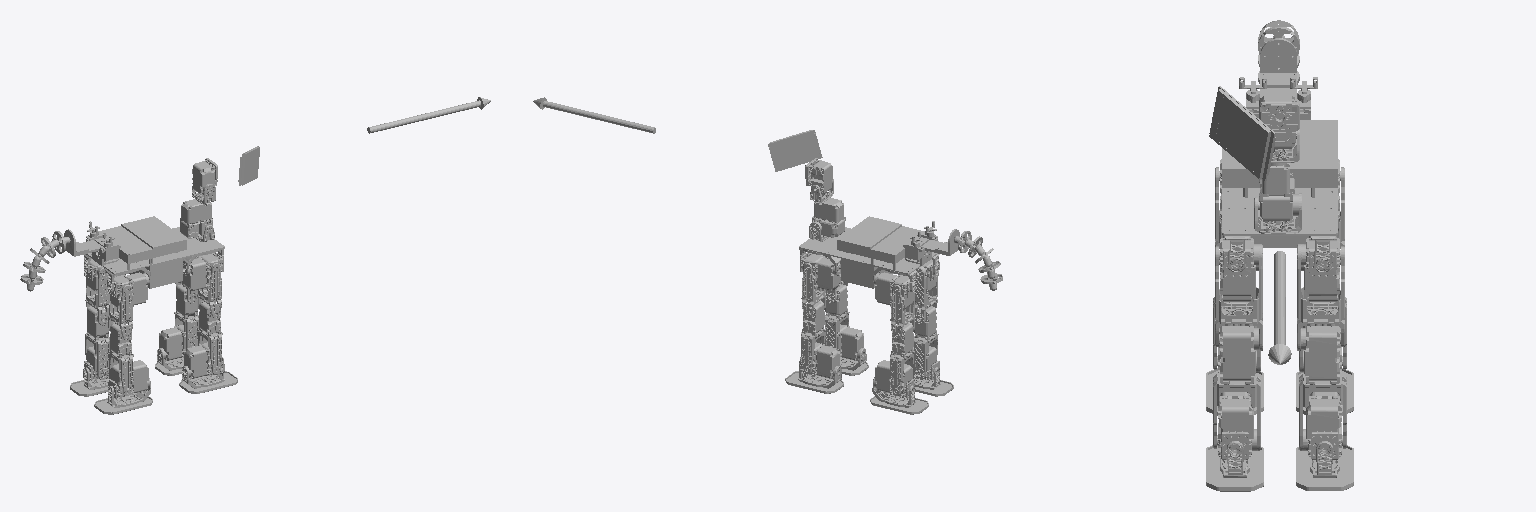
--- Facts derived from the render (not from the file) ---
Views: 3 orthographic renders of the robot side by side, from view 1: azimuth 30°, elevation 25°; view 2: azimuth 150°, elevation 25°; view 3: azimuth 270°, elevation 25°.
Model sweetie_bot_proto2 with 45 links and 44 joints (32 revolute, 3 prismatic, 9 fixed), rooted at base_link, posed every joint at zero.
Visible links, largest first — view 1: base_link, bone33, bone43, bone23, bone51, bone13, bone21, bone45, bone41, bone25, bone24, bone44 (+8 smaller); view 2: base_link, screen_right, bone33, bone13, bone43, bone51, bone23, bone31, bone11, bone35, bone15, bone14 (+8 smaller); view 3: base_link, screen_right, bone23, bone13, bone25, bone15, bone14, bone24, bone51, bone12, bone22, bone53 (+3 smaller).
Boxes of the visible links, <box> form: base_link: <box>20,216,224,292</box>; bone33: <box>85,306,109,379</box>; bone43: <box>109,322,133,395</box>; bone23: <box>198,301,222,374</box>; bone51: <box>180,197,212,238</box>; bone13: <box>174,284,198,348</box>; bone21: <box>183,253,223,290</box>; bone45: <box>94,378,152,414</box>; bone41: <box>108,272,148,309</box>; bone25: <box>179,364,237,393</box>; bone24: <box>184,342,223,378</box>; bone44: <box>108,360,149,398</box>; base_link: <box>799,216,1002,291</box>; screen_right: <box>768,130,822,171</box>; bone33: <box>890,322,914,395</box>; bone13: <box>801,300,825,374</box>; bone43: <box>914,306,938,379</box>; bone51: <box>812,198,845,237</box>; bone23: <box>825,284,849,347</box>; bone31: <box>874,272,915,309</box>; bone11: <box>800,252,839,290</box>; bone35: <box>870,377,928,414</box>; bone15: <box>785,363,843,393</box>; bone14: <box>799,342,839,378</box>; base_link: <box>1222,20,1337,271</box>; screen_right: <box>1209,86,1275,180</box>; bone23: <box>1213,326,1260,450</box>; bone13: <box>1299,326,1346,450</box>; bone25: <box>1206,441,1263,491</box>; bone15: <box>1296,441,1353,490</box>; bone14: <box>1303,392,1342,459</box>; bone24: <box>1217,392,1256,459</box>; bone51: <box>1258,155,1298,220</box>; bone12: <box>1297,244,1344,350</box>; bone22: <box>1215,244,1262,350</box>; bone53: <box>1259,93,1299,148</box>.
Bounding box of the posed robot: 0.8477 × 0.1272 × 0.3896 m (x, y, z).
27 mesh visuals loaded from 29 distinct referenced files (3 binary STL, 24 Collada DAE); not drawn: 1 (reference not matched to a file when rendering), 1 (file found but could not be loaded).

URDF robot description (sweetie_bot_proto2):
<?xml version="1.0"?>
<robot name="sweetie_bot_proto2">
  <link name="base_link">
    <visual>
      <origin xyz="0.0 0.0 0.0" rpy="0.0 0.0 0.0"/>
      <geometry>
        <mesh filename="package://sweetie_bot_proto2_description/meshes/base_link.DAE"/>
      </geometry>
      <material name="">
        <color rgba="0.752941176471 0.752941176471 0.752941176471 1.0"/>
      </material>
    </visual>
    <collision>
      <origin xyz="0.0 0.0 0.0" rpy="0.0 0.0 0.0"/>
      <geometry>
        <mesh filename="package://sweetie_bot_proto2_description/meshes/collision/base_link.STL"/>
      </geometry>
    </collision>
  </link>
  <link name="base_link_inertia">
    <inertial>
      <origin xyz="-0.0138905253241 -0.00180707327366 8.18940362861e-05" rpy="0.0 0.0 0.0"/>
      <mass value="0.971931208405"/>
      <inertia ixx="0.00107358081614" ixy="0.00039355236889" ixz="8.3645206281e-06" iyy="0.00359809561149" iyz="-2.30307474917e-06" izz="0.00335012984396"/>
    </inertial>
  </link>
  <joint name="fictive_base_joint" type="fixed">
    <parent link="base_link"/>
    <child link="base_link_inertia"/>
  </joint>
  <link name="bone11">
    <inertial>
      <origin xyz="-0.0131503498523 -0.000726513653317 -0.0123397056768" rpy="0.0 0.0 0.0"/>
      <mass value="0.105587079651"/>
      <inertia ixx="2.35646435059e-05" ixy="1.00872737015e-06" ixz="-8.73535975042e-07" iyy="4.54760318745e-05" iyz="3.82961621381e-08" izz="3.46439811584e-05"/>
    </inertial>
    <visual>
      <origin xyz="0.0 0.0 0.0" rpy="0.0 0.0 0.0"/>
      <geometry>
        <mesh filename="package://sweetie_bot_proto2_description/meshes/bone11.DAE"/>
      </geometry>
      <material name="">
        <color rgba="0.752941176471 0.752941176471 0.752941176471 1.0"/>
      </material>
    </visual>
    <collision>
      <origin xyz="0.0 0.0 0.0" rpy="0.0 0.0 0.0"/>
      <geometry>
        <mesh filename="package://sweetie_bot_proto2_description/meshes/collision/bone11.STL"/>
      </geometry>
    </collision>
  </link>
  <joint name="joint11" type="revolute">
    <origin xyz="0.080425 0.037 -0.0275" rpy="3.7797374822e-14 -3.4914813431e-15 -4.81230658754e-15"/>
    <axis xyz="-1.0 0.0 0.0"/>
    <parent link="base_link"/>
    <child link="bone11"/>
    <limit effort="0.24" lower="-1.5708" upper="1.5708" velocity="1.5708"/>
  </joint>
  <link name="bone12">
    <inertial>
      <origin xyz="-3.00388784402e-07 -0.00227925246986 -0.0462490701207" rpy="0.0 0.0 0.0"/>
      <mass value="0.0185022042823"/>
      <inertia ixx="1.3783037807e-05" ixy="-3.30013250382e-10" ixz="-6.20565499694e-10" iyy="9.89722431632e-06" iyz="3.69591882948e-08" izz="5.66311332365e-06"/>
    </inertial>
    <visual>
      <origin xyz="0.0 0.0 0.0" rpy="0.0 0.0 0.0"/>
      <geometry>
        <mesh filename="package://sweetie_bot_proto2_description/meshes/bone12.DAE"/>
      </geometry>
      <material name="">
        <color rgba="0.752941176471 0.752941176471 0.752941176471 1.0"/>
      </material>
    </visual>
    <collision>
      <origin xyz="0.0 0.0 0.0" rpy="0.0 0.0 0.0"/>
      <geometry>
        <mesh filename="package://sweetie_bot_proto2_description/meshes/collision/bone12.STL"/>
      </geometry>
    </collision>
  </link>
  <joint name="joint12" type="revolute">
    <origin xyz="0.0 0.0 0.0" rpy="0.0 -3.54776255454e-31 0.0"/>
    <axis xyz="0.0 -1.0 0.0"/>
    <parent link="bone11"/>
    <child link="bone12"/>
    <limit effort="0.24" lower="-1.5708" upper="1.5708" velocity="1.5708"/>
  </joint>
  <link name="bone13">
    <inertial>
      <origin xyz="8.02423274771e-08 -0.00132693444789 -0.0222795353563" rpy="0.0 0.0 0.0"/>
      <mass value="0.0651096345569"/>
      <inertia ixx="4.28023192969e-05" ixy="3.22165726907e-10" ixz="-4.62109403824e-10" iyy="3.8488306844e-05" iyz="3.52704403401e-07" izz="1.03869118902e-05"/>
    </inertial>
    <visual>
      <origin xyz="0.0 0.0 0.0" rpy="0.0 0.0 0.0"/>
      <geometry>
        <mesh filename="package://sweetie_bot_proto2_description/meshes/bone13.DAE"/>
      </geometry>
      <material name="">
        <color rgba="0.752941176471 0.752941176471 0.752941176471 1.0"/>
      </material>
    </visual>
    <collision>
      <origin xyz="0.0 0.0 0.0" rpy="0.0 0.0 0.0"/>
      <geometry>
        <mesh filename="package://sweetie_bot_proto2_description/meshes/collision/bone13.STL"/>
      </geometry>
    </collision>
  </link>
  <joint name="joint13" type="revolute">
    <origin xyz="0.0 0.0 -0.08" rpy="-3.16413562018e-15 3.4914813431e-15 4.81230658754e-15"/>
    <axis xyz="0.0 -1.0 0.0"/>
    <parent link="bone12"/>
    <child link="bone13"/>
    <limit effort="0.24" lower="-1.9" upper="1.9" velocity="1.5708"/>
  </joint>
  <link name="bone14">
    <inertial>
      <origin xyz="-0.0131503499542 -0.000726571124869 0.0123397056981" rpy="0.0 0.0 0.0"/>
      <mass value="0.105587079787"/>
      <inertia ixx="2.35646347426e-05" ixy="1.00889107706e-06" ixz="8.73536154319e-07" iyy="4.54760316078e-05" iyz="-3.84172291161e-08" izz="3.46439720497e-05"/>
    </inertial>
    <visual>
      <origin xyz="0.0 0.0 0.0" rpy="0.0 0.0 0.0"/>
      <geometry>
        <mesh filename="package://sweetie_bot_proto2_description/meshes/bone14.DAE"/>
      </geometry>
      <material name="">
        <color rgba="0.752941176471 0.752941176471 0.752941176471 1.0"/>
      </material>
    </visual>
    <collision>
      <origin xyz="0.0 0.0 0.0" rpy="0.0 0.0 0.0"/>
      <geometry>
        <mesh filename="package://sweetie_bot_proto2_description/meshes/collision/bone14.STL"/>
      </geometry>
    </collision>
  </link>
  <joint name="joint14" type="revolute">
    <origin xyz="0.0 0.0016 -0.09605" rpy="-3.88578058619e-16 6.93889390398e-18 2.17881268583e-15"/>
    <axis xyz="0.0 -1.0 0.0"/>
    <parent link="bone13"/>
    <child link="bone14"/>
    <limit effort="0.24" lower="-1.5708" upper="1.5708" velocity="1.5708"/>
  </joint>
  <link name="bone15">
    <inertial>
      <origin xyz="-0.00654545442537 1.78611357569e-06 -0.0251989397617" rpy="0.0 0.0 0.0"/>
      <mass value="0.0234095309231"/>
      <inertia ixx="4.87157620445e-06" ixy="-4.51832383148e-10" ixz="5.25179469847e-07" iyy="1.68339968626e-05" iyz="-4.43541974088e-11" izz="1.93251783586e-05"/>
    </inertial>
    <visual>
      <origin xyz="0.0 0.0 0.0" rpy="0.0 0.0 0.0"/>
      <geometry>
        <mesh filename="package://sweetie_bot_proto2_description/meshes/bone15.DAE"/>
      </geometry>
      <material name="">
        <color rgba="0.752941176471 0.752941176471 0.752941176471 1.0"/>
      </material>
    </visual>
    <collision>
      <origin xyz="0.0 0.0 0.0" rpy="0.0 0.0 0.0"/>
      <geometry>
        <mesh filename="package://sweetie_bot_proto2_description/meshes/collision/bone15.STL"/>
      </geometry>
    </collision>
  </link>
  <joint name="joint15" type="revolute">
    <origin xyz="0.0 0.0 0.0" rpy="0.0 -1.12103877146e-44 0.0"/>
    <axis xyz="-1.0 0.0 0.0"/>
    <parent link="bone14"/>
    <child link="bone15"/>
    <limit effort="0.24" lower="-1.5708" upper="1.5708" velocity="1.5708"/>
  </joint>
  <link name="bone16"/>
  <joint name="joint16" type="revolute">
    <origin xyz="0.0 0.0 0.0" rpy="0.0 0.0 0.0"/>
    <axis xyz="0.0 0.0 1.0"/>
    <parent link="bone15"/>
    <child link="bone16"/>
    <limit effort="0.24" lower="-1.5708" upper="1.5708" velocity="6.2832"/>
  </joint>
  <link name="hoof1"/>
  <joint name="joint_hoof1" type="fixed">
    <origin xyz="0.0 0.0 -0.03" rpy="0.0 0.0 0.0"/>
    <parent link="bone15"/>
    <child link="hoof1"/>
  </joint>
  <link name="bone21">
    <inertial>
      <origin xyz="-0.0131492758508 0.000726571123886 -0.0123397056768" rpy="0.0 0.0 0.0"/>
      <mass value="0.105587079651"/>
      <inertia ixx="2.35646347031e-05" ixy="-1.00880882812e-06" ixz="-8.74687030149e-07" iyy="4.54825143369e-05" iyz="-3.84172310525e-08" izz="3.46504548181e-05"/>
    </inertial>
    <visual>
      <origin xyz="0.0 0.0 0.0" rpy="0.0 0.0 0.0"/>
      <geometry>
        <mesh filename="package://sweetie_bot_proto2_description/meshes/bone21.DAE"/>
      </geometry>
      <material name="">
        <color rgba="0.752941176471 0.752941176471 0.752941176471 1.0"/>
      </material>
    </visual>
    <collision>
      <origin xyz="0.0 0.0 0.0" rpy="0.0 0.0 0.0"/>
      <geometry>
        <mesh filename="package://sweetie_bot_proto2_description/meshes/collision/bone21.STL"/>
      </geometry>
    </collision>
  </link>
  <joint name="joint21" type="revolute">
    <origin xyz="0.080425 -0.037 -0.0275" rpy="3.54699451234e-15 4.38428390321e-16 -1.54361546163e-14"/>
    <axis xyz="-1.0 0.0 0.0"/>
    <parent link="base_link"/>
    <child link="bone21"/>
    <limit effort="0.24" lower="-1.5708" upper="1.5708" velocity="1.5708"/>
  </joint>
  <link name="bone22">
    <inertial>
      <origin xyz="3.00388784236e-07 0.00227925246986 -0.0462490701207" rpy="0.0 0.0 0.0"/>
      <mass value="0.0185022042823"/>
      <inertia ixx="1.3783037807e-05" ixy="-3.30013250328e-10" ixz="6.20565499657e-10" iyy="9.89722431632e-06" iyz="-3.69591882948e-08" izz="5.66311332365e-06"/>
    </inertial>
    <visual>
      <origin xyz="0.0 0.0 0.0" rpy="0.0 0.0 0.0"/>
      <geometry>
        <mesh filename="package://sweetie_bot_proto2_description/meshes/bone22.DAE"/>
      </geometry>
      <material name="">
        <color rgba="0.752941176471 0.752941176471 0.752941176471 1.0"/>
      </material>
    </visual>
    <collision>
      <origin xyz="0.0 0.0 0.0" rpy="0.0 0.0 0.0"/>
      <geometry>
        <mesh filename="package://sweetie_bot_proto2_description/meshes/collision/bone22.STL"/>
      </geometry>
    </collision>
  </link>
  <joint name="joint22" type="revolute">
    <origin xyz="0.0 0.0 0.0" rpy="0.0 1.6185064457e-32 0.0"/>
    <axis xyz="0.0 -1.0 0.0"/>
    <parent link="bone21"/>
    <child link="bone22"/>
    <limit effort="0.24" lower="-1.5708" upper="1.5708" velocity="1.5708"/>
  </joint>
  <link name="bone23">
    <inertial>
      <origin xyz="-8.0238840558e-08 0.00132693442083 -0.0222795353719" rpy="0.0 0.0 0.0"/>
      <mass value="0.0651096347113"/>
      <inertia ixx="4.28023193276e-05" ixy="3.22168480627e-10" ixz="4.62111154546e-10" iyy="3.84883068536e-05" iyz="-3.52704417056e-07" izz="1.0386911912e-05"/>
    </inertial>
    <visual>
      <origin xyz="0.0 0.0 0.0" rpy="0.0 0.0 0.0"/>
      <geometry>
        <mesh filename="package://sweetie_bot_proto2_description/meshes/bone23.DAE"/>
      </geometry>
      <material name="">
        <color rgba="0.752941176471 0.752941176471 0.752941176471 1.0"/>
      </material>
    </visual>
    <collision>
      <origin xyz="0.0 0.0 0.0" rpy="0.0 0.0 0.0"/>
      <geometry>
        <mesh filename="package://sweetie_bot_proto2_description/meshes/collision/bone23.STL"/>
      </geometry>
    </collision>
  </link>
  <joint name="joint23" type="revolute">
    <origin xyz="0.0 0.0 -0.08" rpy="-7.77156117238e-15 -4.38428390321e-16 1.54361546163e-14"/>
    <axis xyz="0.0 -1.0 0.0"/>
    <parent link="bone22"/>
    <child link="bone23"/>
    <limit effort="0.24" lower="-1.9" upper="1.9" velocity="1.5708"/>
  </joint>
  <link name="bone24">
    <inertial>
      <origin xyz="-0.013149275738 0.000726513639348 0.0123397056981" rpy="0.0 0.0 0.0"/>
      <mass value="0.105587079787"/>
      <inertia ixx="2.35646435624e-05" ixy="-1.00864480641e-06" ixz="8.74686830252e-07" iyy="4.54825147033e-05" iyz="3.82961882936e-08" izz="3.4650463965e-05"/>
    </inertial>
    <visual>
      <origin xyz="0.0 0.0 0.0" rpy="0.0 0.0 0.0"/>
      <geometry>
        <mesh filename="package://sweetie_bot_proto2_description/meshes/bone24.DAE"/>
      </geometry>
      <material name="">
        <color rgba="0.752941176471 0.752941176471 0.752941176471 1.0"/>
      </material>
    </visual>
    <collision>
      <origin xyz="0.0 0.0 0.0" rpy="0.0 0.0 0.0"/>
      <geometry>
        <mesh filename="package://sweetie_bot_proto2_description/meshes/collision/bone24.STL"/>
      </geometry>
    </collision>
  </link>
  <joint name="joint24" type="revolute">
    <origin xyz="0.0 -0.0016 -0.09605" rpy="-6.38378239159e-15 4.4408920985e-16 -7.77156117238e-16"/>
    <axis xyz="0.0 -1.0 0.0"/>
    <parent link="bone23"/>
    <child link="bone24"/>
    <limit effort="0.24" lower="-1.5708" upper="1.5708" velocity="1.5708"/>
  </joint>
  <link name="bone25">
    <inertial>
      <origin xyz="-0.00655201597392 1.78621347767e-06 -0.0251989396311" rpy="0.0 0.0 0.0"/>
      <mass value="0.0234095313367"/>
      <inertia ixx="4.87157625631e-06" ixy="-4.52066602059e-10" ixz="5.29049923335e-07" iyy="1.68265249268e-05" iyz="-4.43638185685e-11" izz="1.93177064246e-05"/>
    </inertial>
    <visual>
      <origin xyz="0.0 0.0 0.0" rpy="0.0 0.0 0.0"/>
      <geometry>
        <mesh filename="package://sweetie_bot_proto2_description/meshes/bone25.DAE"/>
      </geometry>
      <material name="">
        <color rgba="0.752941176471 0.752941176471 0.752941176471 1.0"/>
      </material>
    </visual>
    <collision>
      <origin xyz="0.0 0.0 0.0" rpy="0.0 0.0 0.0"/>
      <geometry>
        <mesh filename="package://sweetie_bot_proto2_description/meshes/collision/bone25.STL"/>
      </geometry>
    </collision>
  </link>
  <joint name="joint25" type="revolute">
    <origin xyz="0.0 0.0 0.0" rpy="0.0 1.23259516441e-32 0.0"/>
    <axis xyz="-1.0 0.0 0.0"/>
    <parent link="bone24"/>
    <child link="bone25"/>
    <limit effort="0.24" lower="-1.5708" upper="1.5708" velocity="1.5708"/>
  </joint>
  <link name="bone26"/>
  <joint name="joint26" type="revolute">
    <origin xyz="0.0 0.0 0.0" rpy="0.0 0.0 0.0"/>
    <axis xyz="0.0 0.0 1.0"/>
    <parent link="bone25"/>
    <child link="bone26"/>
    <limit effort="0.24" lower="-1.5708" upper="1.5708" velocity="6.2832"/>
  </joint>
  <link name="hoof2"/>
  <joint name="joint_hoof2" type="fixed">
    <origin xyz="0.0 0.0 -0.03" rpy="0.0 0.0 0.0"/>
    <parent link="bone25"/>
    <child link="hoof2"/>
  </joint>
  <link name="bone31">
    <inertial>
      <origin xyz="0.0131492758696 -0.000726571137855 -0.0123397056556" rpy="0.0 0.0 0.0"/>
      <mass value="0.105587079515"/>
      <inertia ixx="2.35646346466e-05" ixy="-1.00880884987e-06" ixz="8.74687063234e-07" iyy="4.54825142684e-05" iyz="3.84172048974e-08" izz="3.46504547718e-05"/>
    </inertial>
    <visual>
      <origin xyz="0.0 0.0 0.0" rpy="0.0 0.0 0.0"/>
      <geometry>
        <mesh filename="package://sweetie_bot_proto2_description/meshes/bone31.DAE"/>
      </geometry>
      <material name="">
        <color rgba="0.752941176471 0.752941176471 0.752941176471 1.0"/>
      </material>
    </visual>
    <collision>
      <origin xyz="0.0 0.0 0.0" rpy="0.0 0.0 0.0"/>
      <geometry>
        <mesh filename="package://sweetie_bot_proto2_description/meshes/collision/bone31.STL"/>
      </geometry>
    </collision>
  </link>
  <joint name="joint31" type="revolute">
    <origin xyz="-0.080425 0.037 -0.0275" rpy="-3.54455505745e-15 -9.51716093093e-30 -6.52476541856e-14"/>
    <axis xyz="-1.0 0.0 0.0"/>
    <parent link="base_link"/>
    <child link="bone31"/>
    <limit effort="0.24" lower="-1.5708" upper="1.5708" velocity="1.5708"/>
  </joint>
  <link name="bone32">
    <inertial>
      <origin xyz="-3.00388783764e-07 -0.00227925246986 -0.0462490701207" rpy="0.0 0.0 0.0"/>
      <mass value="0.0185022042823"/>
      <inertia ixx="1.3783037807e-05" ixy="-3.30013250142e-10" ixz="-6.20565499675e-10" iyy="9.89722431632e-06" iyz="3.69591882948e-08" izz="5.66311332365e-06"/>
    </inertial>
    <visual>
      <origin xyz="0.0 0.0 0.0" rpy="0.0 0.0 0.0"/>
      <geometry>
        <mesh filename="package://sweetie_bot_proto2_description/meshes/bone32.DAE"/>
      </geometry>
      <material name="">
        <color rgba="0.752941176471 0.752941176471 0.752941176471 1.0"/>
      </material>
    </visual>
    <collision>
      <origin xyz="0.0 0.0 0.0" rpy="0.0 0.0 0.0"/>
      <geometry>
        <mesh filename="package://sweetie_bot_proto2_description/meshes/collision/bone32.STL"/>
      </geometry>
    </collision>
  </link>
  <joint name="joint32" type="revolute">
    <origin xyz="0.0 0.0 0.0" rpy="0.0 0.0 0.0"/>
    <axis xyz="0.0 -1.0 0.0"/>
    <parent link="bone31"/>
    <child link="bone32"/>
    <limit effort="0.24" lower="-1.5708" upper="1.5708" velocity="1.5708"/>
  </joint>
  <link name="bone33">
    <inertial>
      <origin xyz="8.02423283791e-08 -0.0013269344479 -0.0222795353563" rpy="0.0 0.0 0.0"/>
      <mass value="0.0651096345569"/>
      <inertia ixx="4.28023192969e-05" ixy="3.22165726877e-10" ixz="-4.62109403858e-10" iyy="3.8488306844e-05" iyz="3.52704403401e-07" izz="1.03869118902e-05"/>
    </inertial>
    <visual>
      <origin xyz="0.0 0.0 0.0" rpy="0.0 0.0 0.0"/>
      <geometry>
        <mesh filename="package://sweetie_bot_proto2_description/meshes/bone33.DAE"/>
      </geometry>
      <material name="">
        <color rgba="0.752941176471 0.752941176471 0.752941176471 1.0"/>
      </material>
    </visual>
    <collision>
      <origin xyz="0.0 0.0 0.0" rpy="0.0 0.0 0.0"/>
      <geometry>
        <mesh filename="package://sweetie_bot_proto2_description/meshes/collision/bone33.STL"/>
      </geometry>
    </collision>
  </link>
  <joint name="joint33" type="revolute">
    <origin xyz="0.0 0.0 -0.08" rpy="-6.80011602583e-16 -2.217567417e-28 6.52476541856e-14"/>
    <axis xyz="0.0 -1.0 0.0"/>
    <parent link="bone32"/>
    <child link="bone33"/>
    <limit effort="0.24" lower="-1.9" upper="1.9" velocity="1.5708"/>
  </joint>
  <link name="bone34">
    <inertial>
      <origin xyz="0.013149275738 -0.000726513639348 0.0123397056981" rpy="0.0 0.0 0.0"/>
      <mass value="0.105587079787"/>
      <inertia ixx="2.35646435624e-05" ixy="-1.00864480641e-06" ixz="-8.74686830253e-07" iyy="4.54825147033e-05" iyz="-3.82961882936e-08" izz="3.4650463965e-05"/>
    </inertial>
    <visual>
      <origin xyz="0.0 0.0 0.0" rpy="0.0 0.0 0.0"/>
      <geometry>
        <mesh filename="package://sweetie_bot_proto2_description/meshes/bone34.DAE"/>
      </geometry>
      <material name="">
        <color rgba="0.752941176471 0.752941176471 0.752941176471 1.0"/>
      </material>
    </visual>
    <collision>
      <origin xyz="0.0 0.0 0.0" rpy="0.0 0.0 0.0"/>
      <geometry>
        <mesh filename="package://sweetie_bot_proto2_description/meshes/collision/bone34.STL"/>
      </geometry>
    </collision>
  </link>
  <joint name="joint34" type="revolute">
    <origin xyz="0.0 0.0016 -0.09605" rpy="7.88258347484e-15 -9.15933995316e-15 2.39154391688e-17"/>
    <axis xyz="0.0 -1.0 0.0"/>
    <parent link="bone33"/>
    <child link="bone34"/>
    <limit effort="0.24" lower="-1.5708" upper="1.5708" velocity="1.5708"/>
  </joint>
  <link name="bone35">
    <inertial>
      <origin xyz="0.00655201574471 -1.78612912996e-06 -0.0251989396957" rpy="0.0 0.0 0.0"/>
      <mass value="0.0234095310833"/>
      <inertia ixx="4.87157622862e-06" ixy="-4.52100673042e-10" ixz="-5.29049893178e-07" iyy="1.68265247952e-05" iyz="4.43548246901e-11" izz="1.93177062886e-05"/>
    </inertial>
    <visual>
      <origin xyz="0.0 0.0 0.0" rpy="0.0 0.0 0.0"/>
      <geometry>
        <mesh filename="package://sweetie_bot_proto2_description/meshes/bone35.DAE"/>
      </geometry>
      <material name="">
        <color rgba="0.752941176471 0.752941176471 0.752941176471 1.0"/>
      </material>
    </visual>
    <collision>
      <origin xyz="0.0 0.0 0.0" rpy="0.0 0.0 0.0"/>
      <geometry>
        <mesh filename="package://sweetie_bot_proto2_description/meshes/collision/bone35.STL"/>
      </geometry>
    </collision>
  </link>
  <joint name="joint35" type="revolute">
    <origin xyz="0.0 0.0 0.0" rpy="0.0 8.89474285511e-32 0.0"/>
    <axis xyz="-1.0 0.0 0.0"/>
    <parent link="bone34"/>
    <child link="bone35"/>
    <limit effort="0.24" lower="-1.5708" upper="1.5708" velocity="1.5708"/>
  </joint>
  <link name="bone36"/>
  <joint name="joint36" type="revolute">
    <origin xyz="0.0 0.0 0.0" rpy="0.0 0.0 0.0"/>
    <axis xyz="0.0 0.0 1.0"/>
    <parent link="bone35"/>
    <child link="bone36"/>
    <limit effort="0.24" lower="-1.5708" upper="1.5708" velocity="6.2832"/>
  </joint>
  <link name="hoof3"/>
  <joint name="joint_hoof3" type="fixed">
    <origin xyz="0.0 0.0 -0.03" rpy="0.0 0.0 0.0"/>
    <parent link="bone35"/>
    <child link="hoof3"/>
  </joint>
  <link name="bone41">
    <inertial>
      <origin xyz="0.0131503498359 0.00072651364028 -0.012339705691" rpy="0.0 0.0 0.0"/>
      <mass value="0.105587079742"/>
      <inertia ixx="2.3564643549e-05" ixy="1.00872735284e-06" ixz="8.73535947214e-07" iyy="4.54760319183e-05" iyz="-3.82961865959e-08" izz="3.4643981193e-05"/>
    </inertial>
    <visual>
      <origin xyz="0.0 0.0 0.0" rpy="0.0 0.0 0.0"/>
      <geometry>
        <mesh filename="package://sweetie_bot_proto2_description/meshes/bone41.DAE"/>
      </geometry>
      <material name="">
        <color rgba="0.752941176471 0.752941176471 0.752941176471 1.0"/>
      </material>
    </visual>
    <collision>
      <origin xyz="0.0 0.0 0.0" rpy="0.0 0.0 0.0"/>
      <geometry>
        <mesh filename="package://sweetie_bot_proto2_description/meshes/collision/bone41.STL"/>
      </geometry>
    </collision>
  </link>
  <joint name="joint41" type="revolute">
    <origin xyz="-0.080425 -0.037 -0.0275" rpy="-3.64169957211e-15 -5.31264912662e-17 -3.51471262493e-14"/>
    <axis xyz="-1.0 0.0 0.0"/>
    <parent link="base_link"/>
    <child link="bone41"/>
    <limit effort="0.24" lower="-1.5708" upper="1.5708" velocity="1.5708"/>
  </joint>
  <link name="bone42">
    <inertial>
      <origin xyz="3.00388784416e-07 0.00227925246986 -0.0462490701207" rpy="0.0 0.0 0.0"/>
      <mass value="0.0185022042823"/>
      <inertia ixx="1.3783037807e-05" ixy="-3.30013250401e-10" ixz="6.20565499655e-10" iyy="9.89722431632e-06" iyz="-3.69591882947e-08" izz="5.66311332365e-06"/>
    </inertial>
    <visual>
      <origin xyz="0.0 0.0 0.0" rpy="0.0 0.0 0.0"/>
      <geometry>
        <mesh filename="package://sweetie_bot_proto2_description/meshes/bone42.DAE"/>
      </geometry>
      <material name="">
        <color rgba="0.752941176471 0.752941176471 0.752941176471 1.0"/>
      </material>
    </visual>
    <collision>
      <origin xyz="0.0 0.0 0.0" rpy="0.0 0.0 0.0"/>
      <geometry>
        <mesh filename="package://sweetie_bot_proto2_description/meshes/collision/bone42.STL"/>
      </geometry>
    </collision>
  </link>
  <joint name="joint42" type="revolute">
    <origin xyz="0.0 0.0 0.0" rpy="0.0 1.40160664338e-33 0.0"/>
    <axis xyz="0.0 -1.0 0.0"/>
    <parent link="bone41"/>
    <child link="bone42"/>
    <limit effort="0.24" lower="-1.5708" upper="1.5708" velocity="1.5708"/>
  </joint>
  <link name="bone43">
    <inertial>
      <origin xyz="-8.02392172566e-08 0.00132693442399 -0.02227953537" rpy="0.0 0.0 0.0"/>
      <mass value="0.0651096346928"/>
      <inertia ixx="4.2802319324e-05" ixy="3.22168200204e-10" ixz="4.62110957161e-10" iyy="3.84883068525e-05" iyz="-3.52704415432e-07" izz="1.03869119095e-05"/>
    </inertial>
    <visual>
      <origin xyz="0.0 0.0 0.0" rpy="0.0 0.0 0.0"/>
      <geometry>
        <mesh filename="package://sweetie_bot_proto2_description/meshes/bone43.DAE"/>
      </geometry>
      <material name="">
        <color rgba="0.752941176471 0.752941176471 0.752941176471 1.0"/>
      </material>
    </visual>
    <collision>
      <origin xyz="0.0 0.0 0.0" rpy="0.0 0.0 0.0"/>
      <geometry>
        <mesh filename="package://sweetie_bot_proto2_description/meshes/collision/bone43.STL"/>
      </geometry>
    </collision>
  </link>
  <joint name="joint43" type="revolute">
    <origin xyz="0.0 0.0 -0.08" rpy="7.74380559676e-15 5.31264912661e-17 3.51471262493e-14"/>
    <axis xyz="0.0 -1.0 0.0"/>
    <parent link="bone42"/>
    <child link="bone43"/>
    <limit effort="0.24" lower="-1.9" upper="1.9" velocity="1.5708"/>
  </joint>
  <link name="bone44">
    <inertial>
      <origin xyz="0.0131503499548 0.000726571124975 0.012339705701" rpy="0.0 0.0 0.0"/>
      <mass value="0.105587079805"/>
      <inertia ixx="2.3564634748e-05" ixy="1.00889107702e-06" ixz="-8.7353615516e-07" iyy="4.54760316137e-05" iyz="3.84172288987e-08" izz="3.46439720501e-05"/>
    </inertial>
    <visual>
      <origin xyz="0.0 0.0 0.0" rpy="0.0 0.0 0.0"/>
      <geometry>
        <mesh filename="package://sweetie_bot_proto2_description/meshes/bone44.DAE"/>
      </geometry>
      <material name="">
        <color rgba="0.752941176471 0.752941176471 0.752941176471 1.0"/>
      </material>
    </visual>
    <collision>
      <origin xyz="0.0 0.0 0.0" rpy="0.0 0.0 0.0"/>
      <geometry>
        <mesh filename="package://sweetie_bot_proto2_description/meshes/collision/bone44.STL"/>
      </geometry>
    </collision>
  </link>
  <joint name="joint44" type="revolute">
    <origin xyz="0.0 -0.0016 -0.09605" rpy="-1.42386102908e-14 -8.88910258347e-17 -2.32357620616e-14"/>
    <axis xyz="0.0 -1.0 0.0"/>
    <parent link="bone43"/>
    <child link="bone44"/>
    <limit effort="0.24" lower="-1.5708" upper="1.5708" velocity="1.5708"/>
  </joint>
  <link name="bone45">
    <inertial>
      <origin xyz="0.00655201557828 -1.78626172384e-06 -0.0251989397497" rpy="0.0 0.0 0.0"/>
      <mass value="0.0234095308805"/>
      <inertia ixx="4.87157620514e-06" ixy="-4.52030532477e-10" ixz="-5.29049870292e-07" iyy="1.68265247099e-05" iyz="4.43734897267e-11" izz="1.93177061977e-05"/>
    </inertial>
    <visual>
      <origin xyz="0.0 0.0 0.0" rpy="0.0 0.0 0.0"/>
      <geometry>
        <mesh filename="package://sweetie_bot_proto2_description/meshes/bone45.DAE"/>
      </geometry>
      <material name="">
        <color rgba="0.752941176471 0.752941176471 0.752941176471 1.0"/>
      </material>
    </visual>
    <collision>
      <origin xyz="0.0 0.0 0.0" rpy="0.0 0.0 0.0"/>
      <geometry>
        <mesh filename="package://sweetie_bot_proto2_description/meshes/collision/bone45.STL"/>
      </geometry>
    </collision>
  </link>
  <joint name="joint45" type="revolute">
    <origin xyz="0.0 0.0 0.0" rpy="0.0 -1.31403502749e-34 0.0"/>
    <axis xyz="-1.0 0.0 0.0"/>
    <parent link="bone44"/>
    <child link="bone45"/>
    <limit effort="0.24" lower="-1.5708" upper="1.5708" velocity="1.5708"/>
  </joint>
  <link name="bone46"/>
  <joint name="joint46" type="revolute">
    <origin xyz="0.0 0.0 0.0" rpy="0.0 0.0 0.0"/>
    <axis xyz="0.0 0.0 1.0"/>
    <parent link="bone45"/>
    <child link="bone46"/>
    <limit effort="0.24" lower="-1.5708" upper="1.5708" velocity="6.2832"/>
  </joint>
  <link name="hoof4"/>
  <joint name="joint_hoof4" type="fixed">
    <origin xyz="0.0 0.0 -0.03" rpy="0.0 0.0 0.0"/>
    <parent link="bone45"/>
    <child link="hoof4"/>
  </joint>
  <link name="bone51">
    <inertial>
      <origin xyz="-0.0126632708335 -0.00240212881372 0.0139613179896" rpy="0.0 0.0 0.0"/>
      <mass value="0.102575796082"/>
      <inertia ixx="3.20486890845e-05" ixy="-6.31785425217e-08" ixz="-6.33404743184e-08" iyy="4.257965923e-05" iyz="1.07102148364e-06" izz="2.28360140185e-05"/>
    </inertial>
    <visual>
      <origin xyz="0.0 0.0 0.0" rpy="0.0 0.0 0.0"/>
      <geometry>
        <mesh filename="package://sweetie_bot_proto2_description/meshes/bone51.DAE"/>
      </geometry>
      <material name="">
        <color rgba="0.752941176471 0.752941176471 0.752941176471 1.0"/>
      </material>
    </visual>
    <collision>
      <origin xyz="0.0 0.0 0.0" rpy="0.0 0.0 0.0"/>
      <geometry>
        <mesh filename="package://sweetie_bot_proto2_description/meshes/collision/bone51.STL"/>
      </geometry>
    </collision>
  </link>
  <joint name="joint51" type="revolute">
    <origin xyz="0.088 0.0 0.0235" rpy="-4.57151135523e-15 0.0 0.0"/>
    <axis xyz="0.0 -1.0 0.0"/>
    <parent link="base_link"/>
    <child link="bone51"/>
    <limit effort="0.24" lower="-1.5708" upper="0.26" velocity="1.5708"/>
  </joint>
  <link name="bone52">
    <inertial>
      <origin xyz="6.28356812971e-08 -0.000533673413828 -0.0124089525843" rpy="0.0 0.0 0.0"/>
      <mass value="0.00540581700891"/>
      <inertia ixx="1.72999480803e-06" ixy="4.85872622402e-12" ixz="-7.55234636482e-12" iyy="6.96780720156e-07" iyz="8.31596189482e-08" izz="1.51783289906e-06"/>
    </inertial>
    <visual>
      <origin xyz="0.0 0.0 0.0" rpy="0.0 0.0 0.0"/>
      <geometry>
        <mesh filename="package://sweetie_bot_proto2_description/meshes/bone52.DAE"/>
      </geometry>
      <material name="">
        <color rgba="0.752941176471 0.752941176471 0.752941176471 1.0"/>
      </material>
    </visual>
    <collision>
      <origin xyz="0.0 0.0 0.0" rpy="0.0 0.0 0.0"/>
      <geometry>
        <mesh filename="package://sweetie_bot_proto2_description/meshes/collision/bone52.STL"/>
      </geometry>
    </collision>
  </link>
  <joint name="joint52" type="revolute">
    <origin xyz="0.0 -0.00314999999999 0.06705" rpy="-3.30198557404e-15 -6.86083134749e-15 3.72722466096e-14"/>
    <axis xyz="0.0 0.0 1.0"/>
    <parent link="bone51"/>
    <child link="bone52"/>
    <limit effort="0.24" lower="-1.5708" upper="1.5708" velocity="1.5708"/>
  </joint>
  <link name="bone53">
    <inertial>
      <origin xyz="0.00130801561074 0.000349582362335 0.0131913887068" rpy="0.0 0.0 0.0"/>
      <mass value="0.0556640423453"/>
      <inertia ixx="1.3269775023e-05" ixy="-2.08006622387e-07" ixz="-4.16949624092e-07" iyy="1.23844512719e-05" iyz="-1.46540737427e-07" izz="7.58579651683e-06"/>
    </inertial>
    <visual>
      <origin xyz="0.0 0.0 0.0" rpy="0.0 0.0 0.0"/>
      <geometry>
        <mesh filename="package://sweetie_bot_proto2_description/meshes/bone53.DAE"/>
      </geometry>
      <material name="">
        <color rgba="0.752941176471 0.752941176471 0.752941176471 1.0"/>
      </material>
    </visual>
    <collision>
      <origin xyz="0.0 0.0 0.0" rpy="0.0 0.0 0.0"/>
      <geometry>
        <mesh filename="package://sweetie_bot_proto2_description/meshes/collision/bone53.STL"/>
      </geometry>
    </collision>
  </link>
  <joint name="joint53" type="revolute">
    <origin xyz="0.0 0.0 0.0" rpy="-5.14406073106e-16 6.86083134749e-15 -3.72722466096e-14"/>
    <axis xyz="0.0 -1.0 0.0"/>
    <parent link="bone52"/>
    <child link="bone53"/>
    <limit effort="0.24" lower="-0.55" upper="1.0" velocity="1.5708"/>
  </joint>
  <link name="bone54">
    <inertial>
      <origin xyz="0.0428001431483 8.85586725973e-06 0.0237799254315" rpy="0.0 0.0 0.0"/>
      <mass value="0.230098004362"/>
      <inertia ixx="0.00053853140335" ixy="-1.69462600354e-07" ixz="-5.92153223065e-07" iyy="0.000608352544635" iyz="4.55806107537e-07" izz="0.000553896203156"/>
    </inertial>
    <visual>
      <origin xyz="0.0 0.0 0.0" rpy="0.0 0.0 0.0"/>
      <geometry>
        <mesh filename="package://sweetie_bot_proto2_description/meshes/bone54.DAE"/>
      </geometry>
      <material name="">
        <color rgba="0.752941176471 0.752941176471 0.752941176471 1.0"/>
      </material>
    </visual>
    <collision>
      <origin xyz="0.0 0.0 0.0" rpy="0.0 0.0 0.0"/>
      <geometry>
        <mesh filename="package://sweetie_bot_proto2_description/meshes/collision/bone54.STL"/>
      </geometry>
    </collision>
  </link>
  <joint name="joint54" type="revolute">
    <origin xyz="0.0 0.00314999999999 0.0246" rpy="2.77555756156e-14 0.0 0.0"/>
    <axis xyz="1.0 0.0 0.0"/>
    <parent link="bone53"/>
    <child link="bone54"/>
    <limit effort="0.24" lower="-0.4" upper="0.4" velocity="1.5708"/>
  </joint>
  <link name="bone55"/>
  <joint name="joint55" type="revolute">
    <origin xyz="0.12 0.0 -0.02" rpy="0.0 0.0 0.0"/>
    <axis xyz="0.0 0.0 1.0"/>
    <parent link="bone54"/>
    <child link="bone55"/>
    <limit effort="0.24" lower="-1.5708" upper="1.5708" velocity="6.2832"/>
  </joint>
  <link name="bone56"/>
  <joint name="joint56" type="revolute">
    <origin xyz="0.0 0.0 0.0" rpy="0.0 0.0 0.0"/>
    <axis xyz="0.0 1.0 0.0"/>
    <parent link="bone55"/>
    <child link="bone56"/>
    <limit effort="0.24" lower="-1.5708" upper="1.5708" velocity="6.2832"/>
  </joint>
  <link name="screen_left">
    <inertial>
      <origin xyz="0.00299207741489 -1.62465112705e-06 -0.00282951129811" rpy="0.0 0.0 0.0"/>
      <mass value="0.034287324936"/>
      <inertia ixx="7.32360040369e-06" ixy="1.69406589451e-21" ixz="-3.86578989045e-09" iyy="1.56402777551e-05" iyz="-2.54109884176e-21" izz="2.2802630047e-05"/>
    </inertial>
    <visual>
      <origin xyz="0.0 0.0 0.0" rpy="0.0 0.0 0.0"/>
      <geometry>
        <mesh filename="package://sweetie_bot_proto2_description/meshes/screen_left.STL"/>
      </geometry>
      <material name="">
        <color rgba="0.752941176471 0.752941176471 0.752941176471 1.0"/>
      </material>
    </visual>
    <collision>
      <origin xyz="0.0 0.0 0.0" rpy="0.0 0.0 0.0"/>
      <geometry>
        <mesh filename="package://sweetie_bot_proto2_description/meshes/screen_left.STL"/>
      </geometry>
    </collision>
  </link>
  <joint name="screen_left" type="fixed">
    <origin xyz="0.0700895479365 0.0337909018151 0.00614838727403" rpy="1.5707963268 -0.244346095279 2.44346095279"/>
    <axis xyz="0.0 0.0 0.0"/>
    <parent link="bone54"/>
    <child link="screen_left"/>
  </joint>
  <link name="screen_right">
    <inertial>
      <origin xyz="-0.00299207741489 1.62465112707e-06 -0.00282951129811" rpy="0.0 0.0 0.0"/>
      <mass value="0.034287324936"/>
      <inertia ixx="7.32360040369e-06" ixy="6.35274710441e-22" ixz="3.86578989046e-09" iyy="1.56402777551e-05" iyz="8.47032947254e-22" izz="2.2802630047e-05"/>
    </inertial>
    <visual>
      <origin xyz="0.0 0.0 0.0" rpy="0.0 0.0 0.0"/>
      <geometry>
        <mesh filename="package://sweetie_bot_proto2_description/meshes/screen_right.STL"/>
      </geometry>
      <material name="">
        <color rgba="0.752941176471 0.752941176471 0.752941176471 1.0"/>
      </material>
    </visual>
    <collision>
      <origin xyz="0.0 0.0 0.0" rpy="0.0 0.0 0.0"/>
      <geometry>
        <mesh filename="package://sweetie_bot_proto2_description/meshes/screen_right.STL"/>
      </geometry>
    </collision>
  </link>
  <joint name="screen_right" type="fixed">
    <origin xyz="0.0700889457663 -0.0337914070959 0.00614523448994" rpy="1.5707963268 0.244346095279 0.698131700799"/>
    <axis xyz="0.0 0.0 0.0"/>
    <parent link="bone54"/>
    <child link="screen_right"/>
  </joint>
  <link name="eye_left"/>
  <joint name="eye_left" type="fixed">
    <origin xyz="0.0700895479365 0.0337909018151 0.00614838727403" rpy="-3.44033294541e-16 3.15829803493e-14 2.50910403565e-14"/>
    <axis xyz="0.0 0.0 0.0"/>
    <parent link="bone54"/>
    <child link="eye_left"/>
  </joint>
  <link name="eye_right"/>
  <joint name="eye_right" type="fixed">
    <origin xyz="0.0700889457663 -0.0337914070959 0.00614523448994" rpy="-3.69982123334e-16 3.16973967665e-14 2.50355292053e-14"/>
    <axis xyz="0.0 0.0 0.0"/>
    <parent link="bone54"/>
    <child link="eye_right"/>
  </joint>
  <link name="link_eyes_x"/>
  <joint name="joint_eyes_focus_x" type="prismatic">
    <origin xyz="0.0 0.0 0.0" rpy="0.0 0.0 0.0"/>
    <axis xyz="1.0 0.0 0.0"/>
    <parent link="bone54"/>
    <child link="link_eyes_x"/>
    <limit effort="0.24" lower="-0.5" upper="0.5" velocity="1.5708"/>
  </joint>
  <link name="link_eyes_y"/>
  <joint name="joint_eyes_focus_y" type="prismatic">
    <origin xyz="0.0 0.0 0.0" rpy="0.0 0.0 0.0"/>
    <axis xyz="0.0 1.0 0.0"/>
    <parent link="link_eyes_x"/>
    <child link="link_eyes_y"/>
    <limit effort="0.24" lower="-0.5" upper="0.5" velocity="1.5708"/>
  </joint>
  <link name="link_eyes_z">
    <visual>
      <origin xyz="0.0 0.0 0.0" rpy="0.0 0.0 0.0"/>
      <geometry>
        <mesh filename="package://sweetie_bot_proto2_description/meshes/sphere.STL"/>
      </geometry>
      <material name="">
        <color rgba="0.75294 0.75294 0.75294 1.0"/>
      </material>
    </visual>
  </link>
  <joint name="joint_eyes_focus_z" type="prismatic">
    <origin xyz="0.0 0.0 0.0" rpy="0.0 0.0 0.0"/>
    <axis xyz="0.0 0.0 1.0"/>
    <parent link="link_eyes_y"/>
    <child link="link_eyes_z"/>
    <limit effort="0.24" lower="-0.5" upper="0.5" velocity="1.5708"/>
  </joint>
  <link name="eyes_link_pitch"/>
  <joint name="eyes_pitch" type="revolute">
    <origin xyz="0.0 0.0 0.0" rpy="-1.3878e-14 -6.9398e-15 -7.6286e-17"/>
    <axis xyz="0.0 -1.0 0.0"/>
    <parent link="bone54"/>
    <child link="eyes_link_pitch"/>
    <limit effort="0.24" lower="-1.5708" upper="1.5708" velocity="6.2832"/>
  </joint>
  <link name="eyes_link_yaw">
    <visual>
      <origin xyz="0.3 0.0 0.0" rpy="0.0 0.0 0.0"/>
      <geometry>
        <mesh filename="package://sweetie_bot_proto2_description/meshes/arrow.STL"/>
      </geometry>
      <material name="">
        <color rgba="0.752941176471 0.752941176471 0.752941176471 1.0"/>
      </material>
    </visual>
  </link>
  <joint name="eyes_yaw" type="revolute">
    <origin xyz="0.0 0.0 0.0" rpy="-1.3878e-14 -6.9398e-15 -7.6286e-17"/>
    <axis xyz="0.0 0.0 -1.0"/>
    <parent link="eyes_link_pitch"/>
    <child link="eyes_link_yaw"/>
    <limit effort="0.24" lower="-1.5708" upper="1.5708" velocity="6.2832"/>
  </joint>
</robot>
